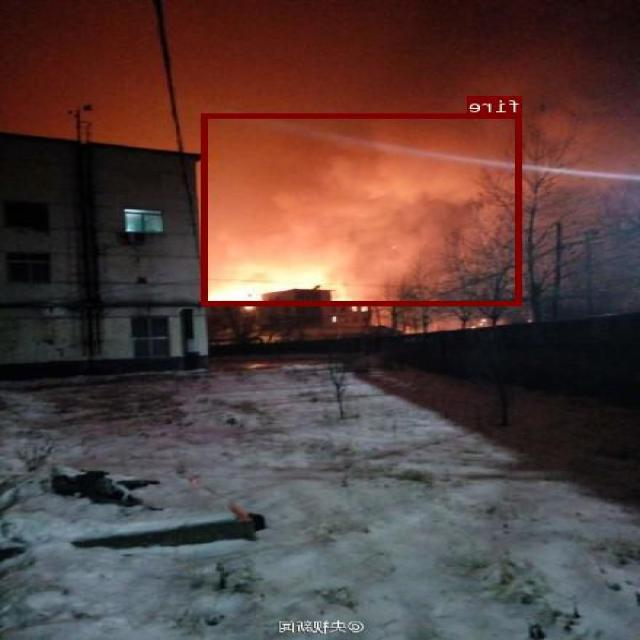fire: (203, 113, 522, 304)
